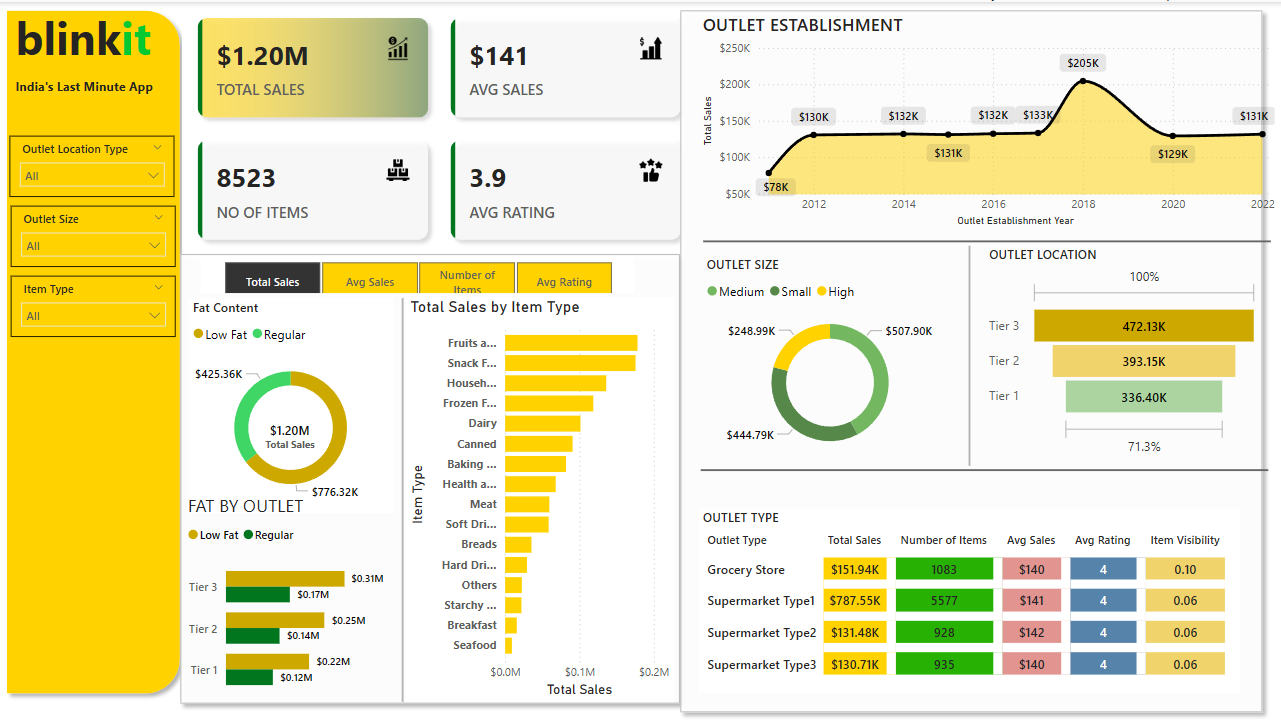

Layout of this report page (visuals, bound fields, positions):
{"tool":"powerbi","page":{"name":"Page 1","canvas":[1400,800],"ordinal":0},"visuals":[{"type":"shape","box":[17.4,0,203.8,750.7],"z":0},{"type":"textbox","box":[30.8,76.4,171.6,36.2],"z":1000},{"type":"cardVisual","fields":{"Data":["BlinkIT Grocery Data.Total Sales","BlinkIT Grocery Data.Avg Sales","BlinkIT Grocery Data.Number of Items","BlinkIT Grocery Data.Avg Rating"]},"box":[214.5,0,553.6,272.1],"z":2000},{"type":"shape","box":[203.8,261.4,553.6,500],"z":3000},{"type":"donutChart","title":"Fat Content","fields":{"Y":["BlinkIT Grocery Data.Total Sales"],"Category":["BlinkIT Grocery Data.Item Fat Content"]},"box":[221.2,317.7,219.8,230.6],"z":4000},{"type":"slicer","fields":{"Values":["Metrics.Metrics"]},"box":[234.6,272.1,465.1,40.2],"z":5000},{"type":"cardVisual","fields":{"Data":["BlinkIT Grocery Data.Total Sales"]},"box":[284.2,433,92.5,56.3],"z":6000},{"type":"clusteredBarChart","title":"FAT BY OUTLET","fields":{"Y":["BlinkIT Grocery Data.Total Sales"],"Category":["BlinkIT Grocery Data.Outlet Location Type"],"Series":["BlinkIT Grocery Data.Item Fat Content"]},"box":[215.8,526.8,219.8,230.6],"z":7000},{"type":"shape","box":[447.7,317.7,6.7,433],"z":8000},{"type":"barChart","fields":{"Y":["BlinkIT Grocery Data.Total Sales"],"Category":["BlinkIT Grocery Data.Item Type"]},"box":[454.4,316.4,288.2,434.3],"z":9000},{"type":"shape","box":[740,0,642.1,770.8],"z":10000},{"type":"lineChart","title":"OUTLET ESTABLISHMENT","fields":{"Y":["BlinkIT Grocery Data.Total Sales"],"Category":["BlinkIT Grocery Data.Outlet Establishment Year"]},"box":[768.1,10.7,623.3,234.6],"z":11000},{"type":"textbox","box":[30.8,0,172.9,76.4],"z":12000},{"type":"shape","box":[773.5,252,608.6,9.4],"z":13000},{"type":"donutChart","title":"OUTLET SIZE","fields":{"Y":["BlinkIT Grocery Data.Total Sales"],"Category":["BlinkIT Grocery Data.Outlet Size"]},"box":[772.1,272.1,275,225],"z":14000},{"type":"shape","box":[1052.3,261.4,13.4,235.9],"z":15000},{"type":"funnel","title":"OUTLET LOCATION","fields":{"Y":["Sum(BlinkIT Grocery Data.Sales)"],"Category":["BlinkIT Grocery Data.Outlet Location Type"]},"box":[1075.1,261.4,298.9,230],"z":16000},{"type":"shape","box":[770.8,497.3,608.6,9.4],"z":17000},{"type":"pivotTable","title":"OUTLET TYPE","fields":{"Rows":["BlinkIT Grocery Data.Outlet Type"],"Values":["BlinkIT Grocery Data.Total Sales","BlinkIT Grocery Data.Number of Items","BlinkIT Grocery Data.Avg Sales","BlinkIT Grocery Data.Avg Rating","Avg(BlinkIT Grocery Data.Item Visibility)"]},"box":[768.1,542.9,580.4,198.4],"z":18000},{"type":"slicer","fields":{"Values":["BlinkIT Grocery Data.Outlet Location Type"]},"box":[29.5,143.4,176.9,65.7],"z":19000},{"type":"slicer","fields":{"Values":["BlinkIT Grocery Data.Outlet Size"]},"box":[30.8,218.5,176.9,65.7],"z":20000},{"type":"slicer","fields":{"Values":["BlinkIT Grocery Data.Item Type"]},"box":[30.8,293.6,176.9,65.7],"z":21000}]}

Visuals, with their boxes in screenshot pixels (x1, y1, x2, y2), scaled from the page's 1400x800 canvas onto the 1281x727 screenshot:
shape: detection(16, 0, 202, 682)
textbox: detection(28, 69, 185, 102)
cardVisual - BlinkIT Grocery Data.Total Sales x BlinkIT Grocery Data.Avg Sales: detection(196, 0, 703, 247)
shape: detection(186, 238, 693, 692)
"Fat Content" donutChart: detection(202, 289, 404, 498)
slicer - Metrics.Metrics: detection(215, 247, 640, 284)
cardVisual - BlinkIT Grocery Data.Total Sales: detection(260, 393, 345, 445)
"FAT BY OUTLET" clusteredBarChart: detection(197, 479, 399, 688)
shape: detection(410, 289, 416, 682)
barChart - BlinkIT Grocery Data.Total Sales x BlinkIT Grocery Data.Item Type: detection(416, 288, 679, 682)
shape: detection(677, 0, 1265, 700)
"OUTLET ESTABLISHMENT" lineChart: detection(703, 10, 1273, 223)
textbox: detection(28, 0, 186, 69)
shape: detection(708, 229, 1265, 238)
"OUTLET SIZE" donutChart: detection(706, 247, 958, 452)
shape: detection(963, 238, 975, 452)
"OUTLET LOCATION" funnel: detection(984, 238, 1257, 447)
shape: detection(705, 452, 1262, 460)
"OUTLET TYPE" pivotTable: detection(703, 493, 1234, 674)
slicer - BlinkIT Grocery Data.Outlet Location Type: detection(27, 130, 189, 190)
slicer - BlinkIT Grocery Data.Outlet Size: detection(28, 199, 190, 258)
slicer - BlinkIT Grocery Data.Item Type: detection(28, 267, 190, 327)
